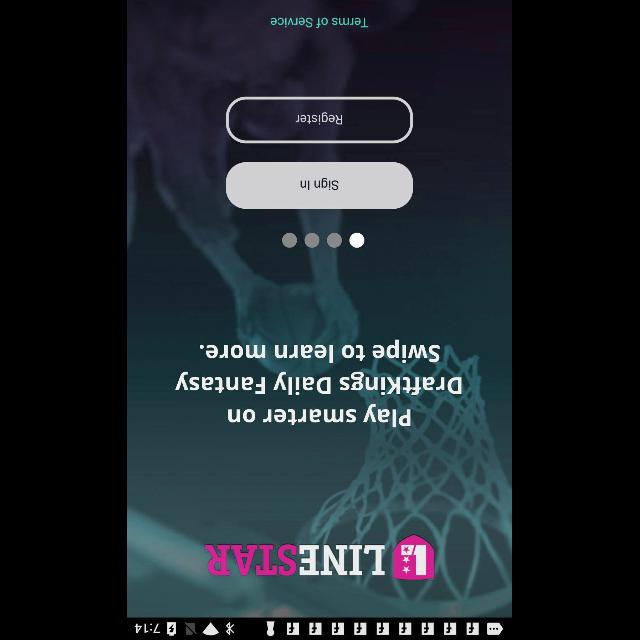backgroundimage: (128, 0, 512, 618)
image: (205, 534, 435, 580)
pageindicator: (282, 232, 366, 248)
text: (175, 339, 462, 427), (271, 17, 369, 28)
textbutton: (226, 162, 414, 210), (226, 96, 414, 144)
uppertaskbar: (128, 617, 512, 639)
